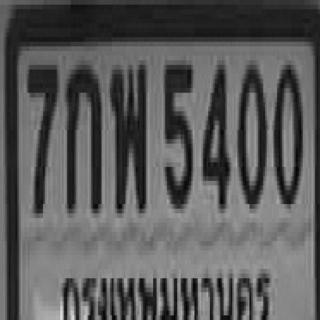A01: (65, 60, 100, 209)
A30: (110, 60, 144, 209)
N00: (236, 60, 265, 204), (272, 60, 301, 204)
N04: (201, 60, 229, 204)
N05: (164, 60, 191, 204)
N07: (26, 60, 57, 213)
P04: (60, 266, 273, 320)
